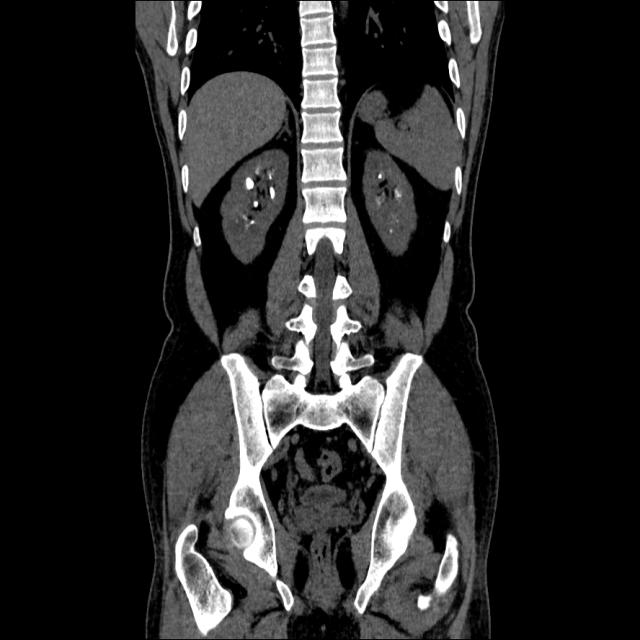kidneystone: (246, 178, 254, 189), (269, 187, 275, 198)
